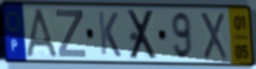9: (170, 11, 195, 61)
A: (24, 7, 62, 61)
K: (96, 10, 123, 59)
X: (126, 8, 160, 62), (198, 10, 230, 62)
Z: (54, 8, 88, 60)
